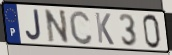0: (141, 13, 162, 50)
3: (118, 13, 139, 48)
C: (68, 9, 95, 47)
J: (25, 8, 43, 42)
K: (94, 11, 115, 47)
N: (43, 8, 70, 44)
